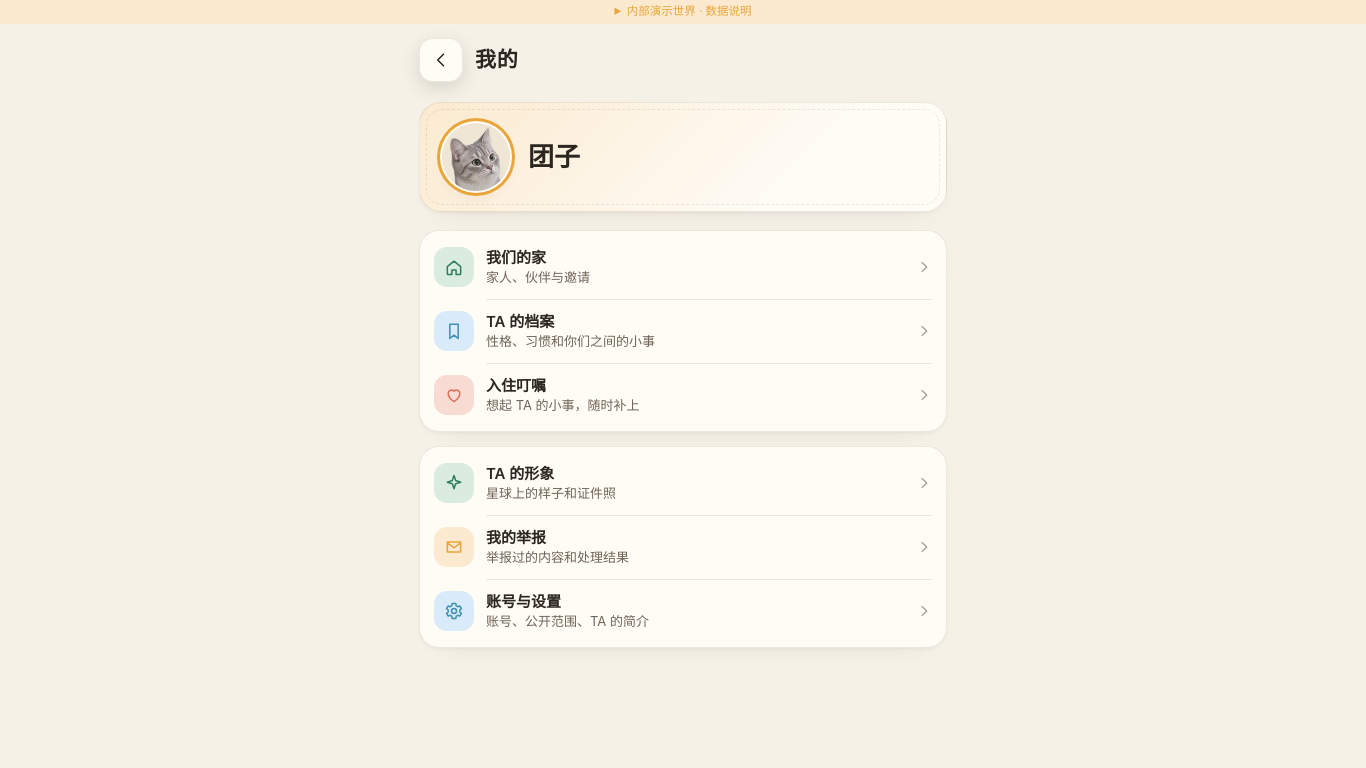
Scenario: 我的举报：演示模式与入口 › “我的”页“形象与账号”一组里有“我的举报”（在账号与设置前面），指向 /me/reports；点进去：演示模式没有举报记录，显示“这里还在搭建中”，不编记录
Click the link "我的举报 举报过的内容和处理结果".
click(454, 547)  # box [420,514,946,578]
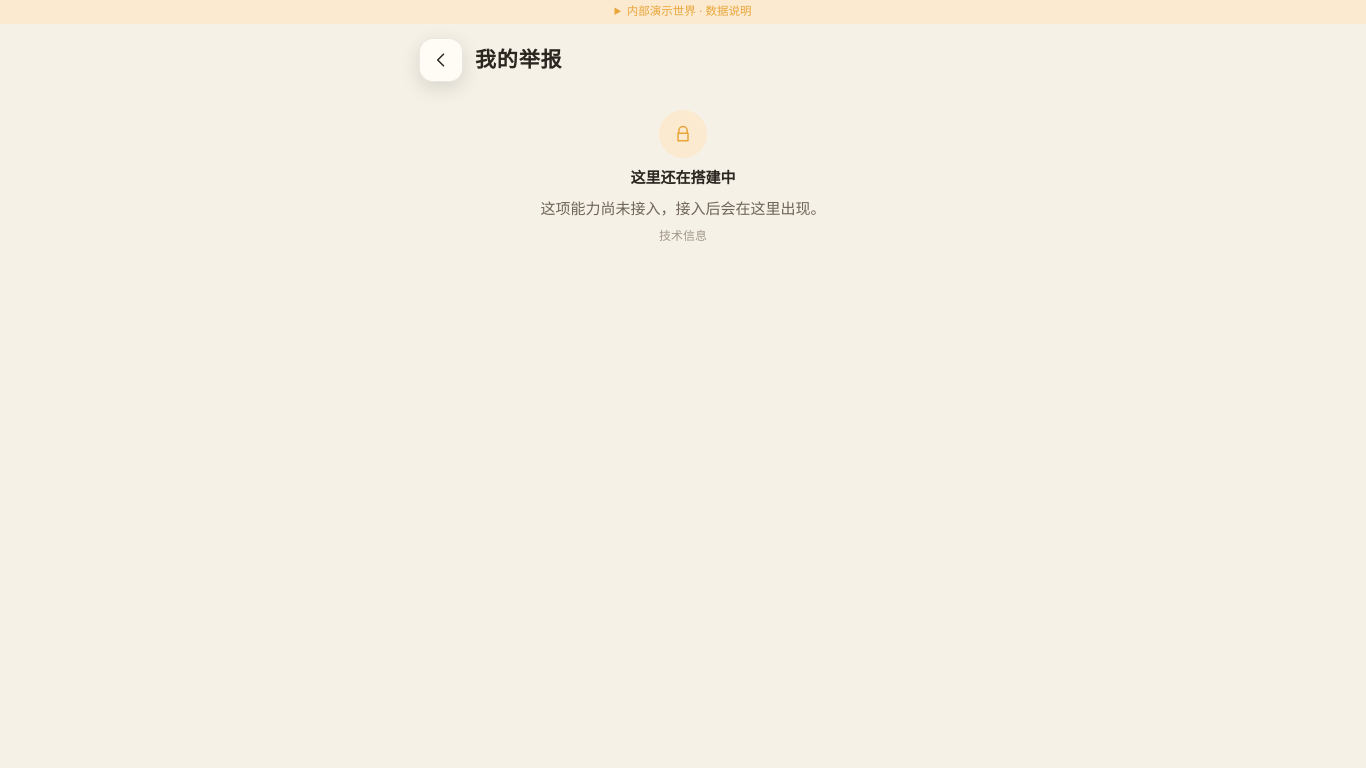
Expected: the text "这里还在搭建中" is shown, [630,166,736,189]
Expected: the heading "我的举报" is shown, [475,46,562,73]
